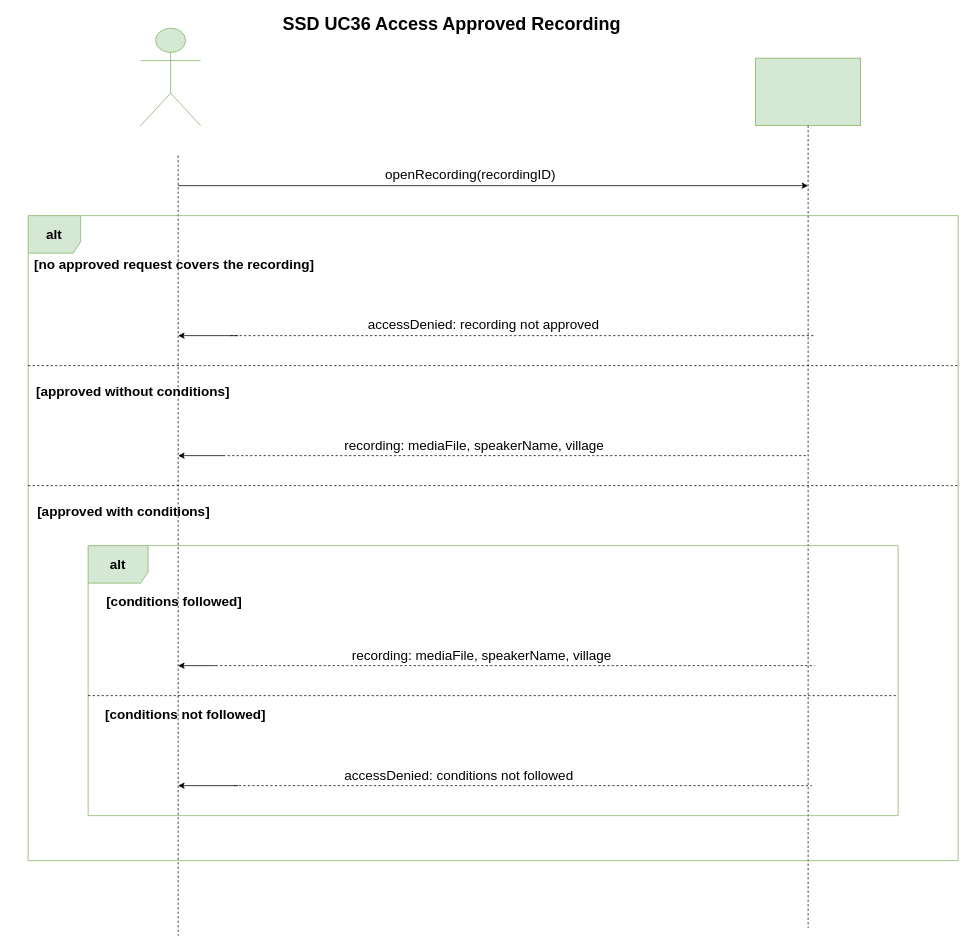
Some shapes in this 972 by 950 pixel diagram are drawn without their labels. Here are the shapes that lost their labels. From the top down, the centre of each, then its label:
the point at 170,76: Researcher
the point at 808,91: :System
